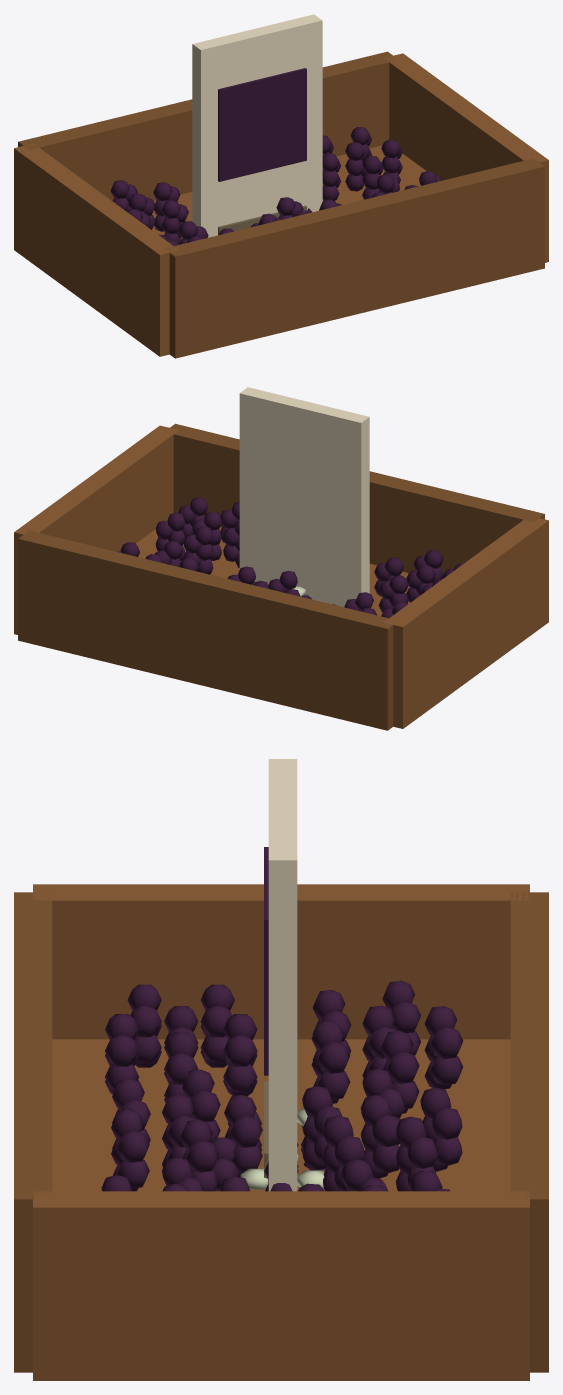
The model's file is Fruit_Mulberry.fbx.
3 views of the same model, one above another, from view 1: azimuth 30°, elevation 25°; view 2: azimuth 150°, elevation 25°; view 3: azimuth 270°, elevation 25° (orthographic). The views are drawn at different scales.
Parts seen in each view (by area): view 1: Fruit_Mulberry__Stack, Fruit_Mulberry__Seed; view 2: Fruit_Mulberry__Stack, Fruit_Mulberry__Seed; view 3: Fruit_Mulberry__Stack, Fruit_Mulberry__Seed, Fruit_Mulberry, Fruit_Mulberry__Rotten.
Part boxes in pixels (x1,y1,x2,y2): Fruit_Mulberry__Stack: (14, 51, 548, 358); Fruit_Mulberry__Seed: (192, 14, 322, 237); Fruit_Mulberry__Stack: (14, 423, 548, 730); Fruit_Mulberry__Seed: (239, 387, 369, 607); Fruit_Mulberry__Stack: (14, 884, 548, 1380); Fruit_Mulberry__Seed: (264, 759, 297, 1191); Fruit_Mulberry: (210, 1112, 327, 1191); Fruit_Mulberry__Rotten: (240, 1107, 324, 1189).
Size of the model in its own units: 0.1599 by 0.09 by 0.1119.
